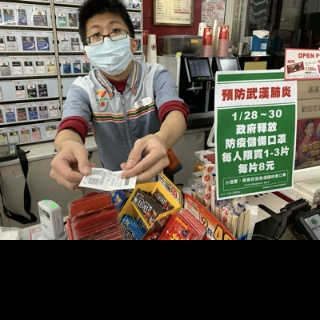with_mask: (84, 18, 136, 76)
